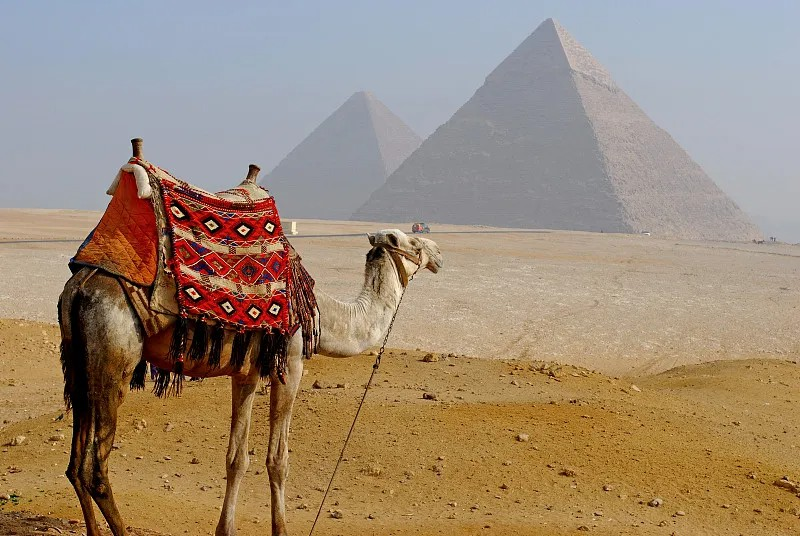Pyramid: (350, 19, 770, 243), (256, 88, 422, 218)
